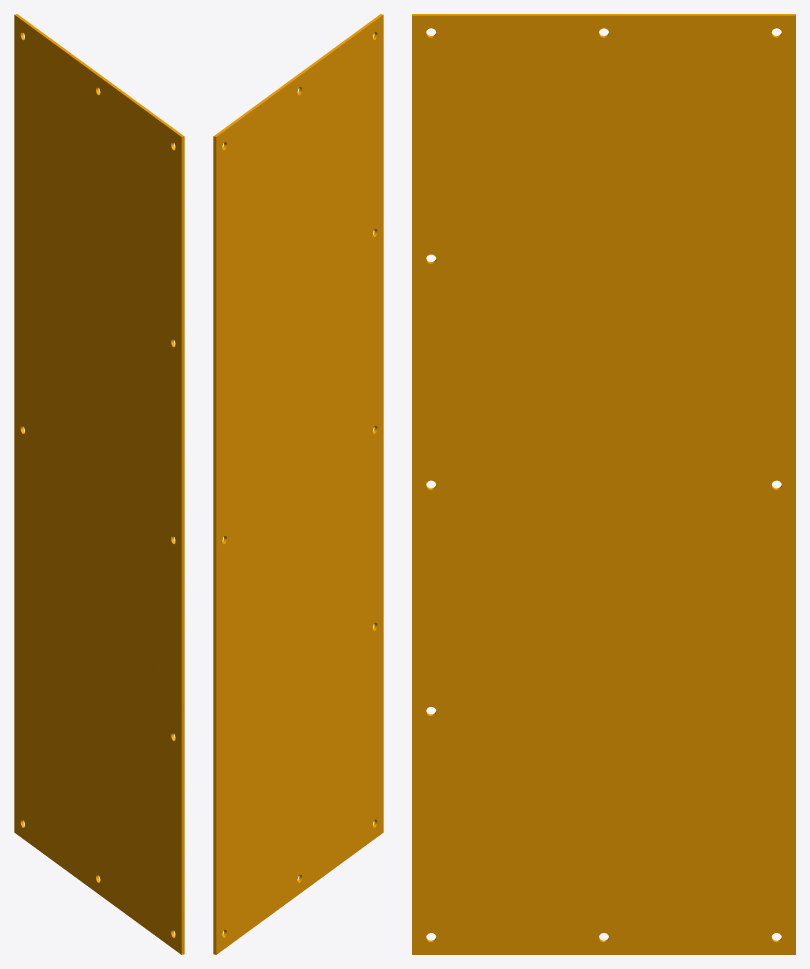
The model's file is shell_side_right.glb.
3 renders of one model, left to right at view 1: azimuth 30°, elevation 25°; view 2: azimuth 150°, elevation 25°; view 3: azimuth 270°, elevation 25°, orthographic. The views are drawn at different scales.
Parts seen in each view (by area): view 1: side_panel-diff; view 2: side_panel-diff; view 3: side_panel-diff.
Part boxes in pixels (x1,y1,x2,y2): side_panel-diff: (14, 14, 184, 954); side_panel-diff: (213, 14, 383, 954); side_panel-diff: (412, 14, 795, 954).
Size of the model in its own units: 2 by 540 by 200.
